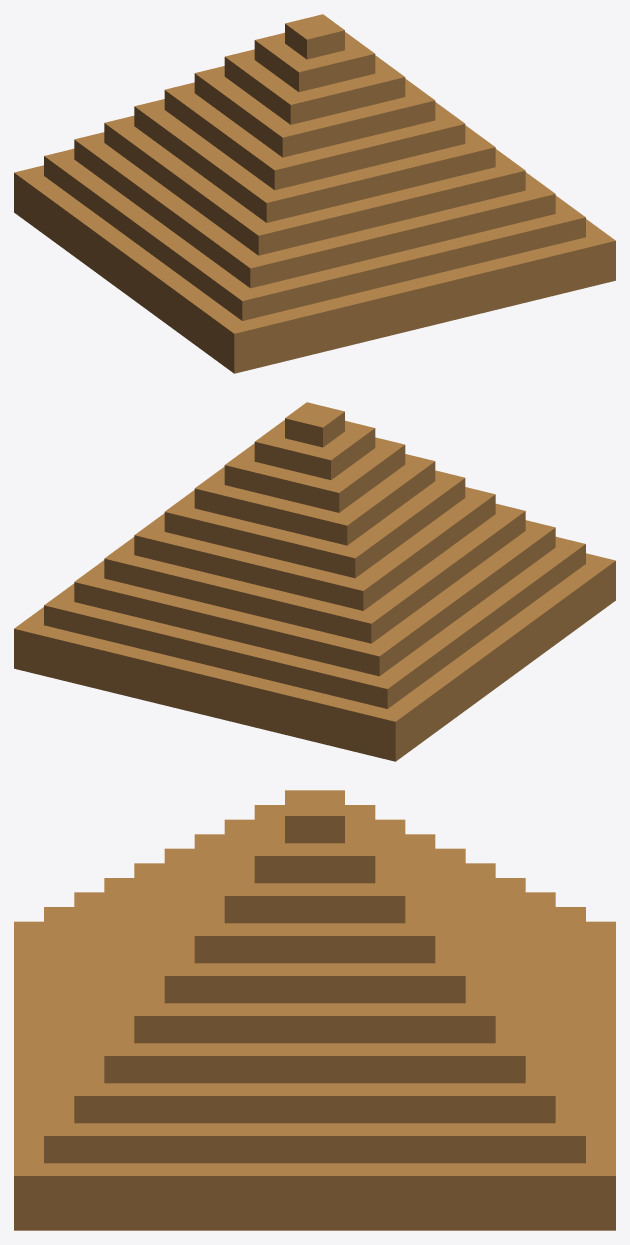
3 views of the same model, one above another, from view 1: azimuth 30°, elevation 25°; view 2: azimuth 150°, elevation 25°; view 3: azimuth 270°, elevation 25° (orthographic). The views are drawn at different scales.
Visible parts, largest first — view 1: Cube; view 2: Cube; view 3: Cube.
Boxes of the visible parts, x1,y1,x2,y2 form: Cube: (14, 14, 615, 373); Cube: (14, 402, 615, 761); Cube: (14, 790, 615, 1230).
Size of the model in its own units: 2000 by 1100 by 2000.
